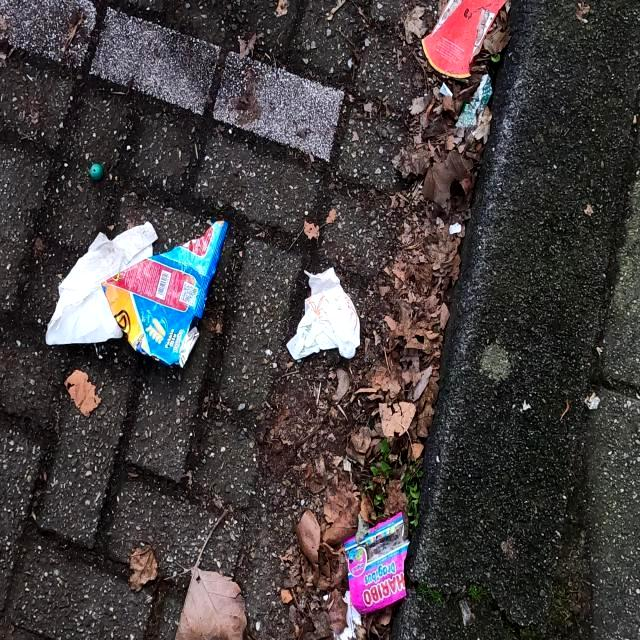Paper: (288, 260, 372, 370), (421, 0, 507, 78)
Plastic: (100, 218, 230, 368), (45, 218, 159, 346), (342, 508, 410, 616), (455, 72, 493, 128)
